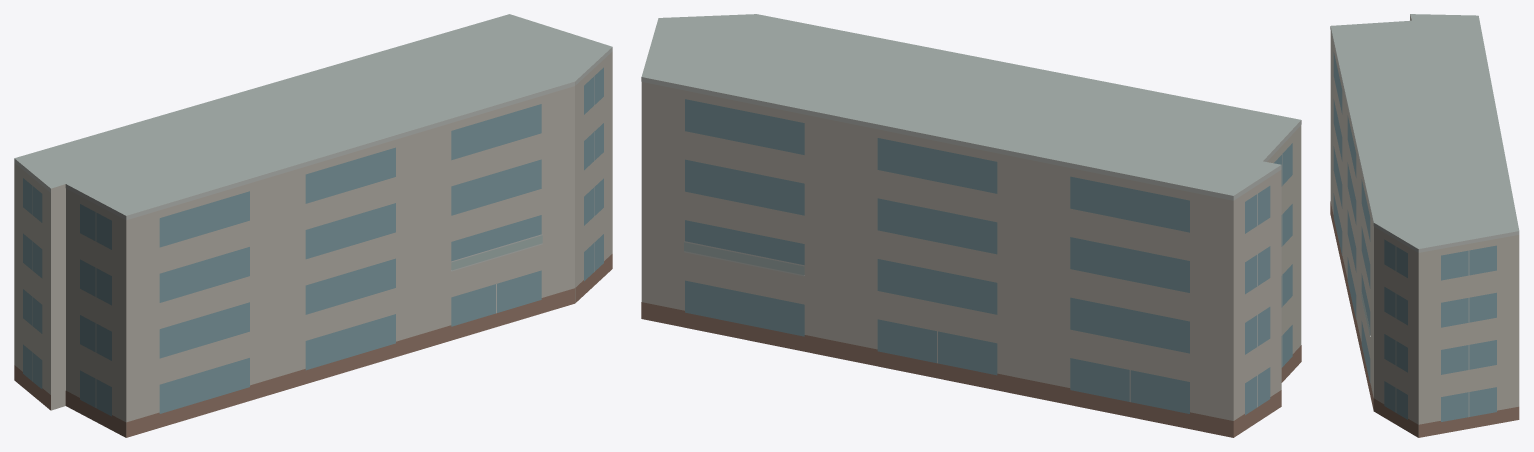
File: survey-upis-33041454.glb
The picture shows the model from 3 angles, left to right: view 1: azimuth 30°, elevation 25°; view 2: azimuth 150°, elevation 25°; view 3: azimuth 270°, elevation 25°; orthographic projection. The views are drawn at different scales.
Parts seen in each view (by area): view 1: survey-upis-33041454.tmp; view 2: survey-upis-33041454.tmp; view 3: survey-upis-33041454.tmp.
Part boxes in pixels (<box>): survey-upis-33041454.tmp: <box>14,14,612,437</box>; survey-upis-33041454.tmp: <box>641,14,1301,437</box>; survey-upis-33041454.tmp: <box>1330,14,1519,437</box>.
Size of the model in its own units: 32.6 by 12.2 by 11.07.
